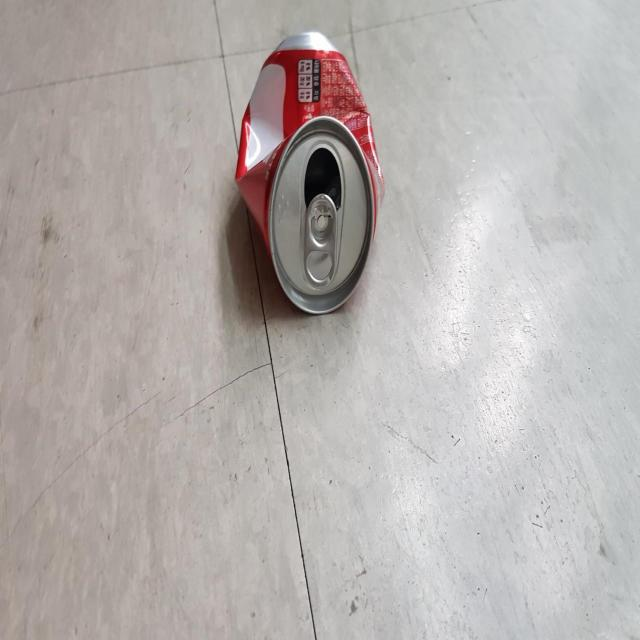can: (235, 30, 384, 313)
